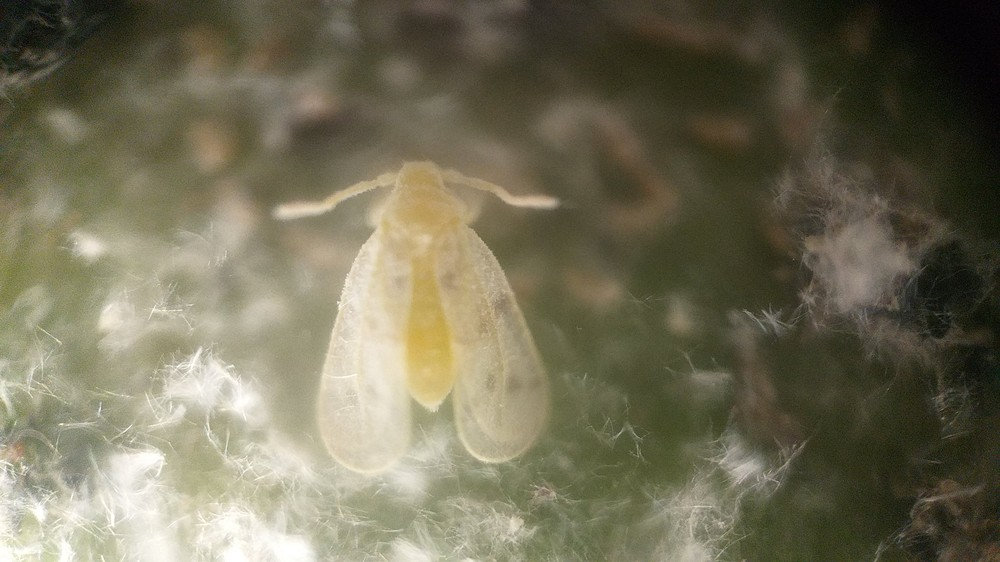Mosca Blanca: (252, 141, 605, 499)
